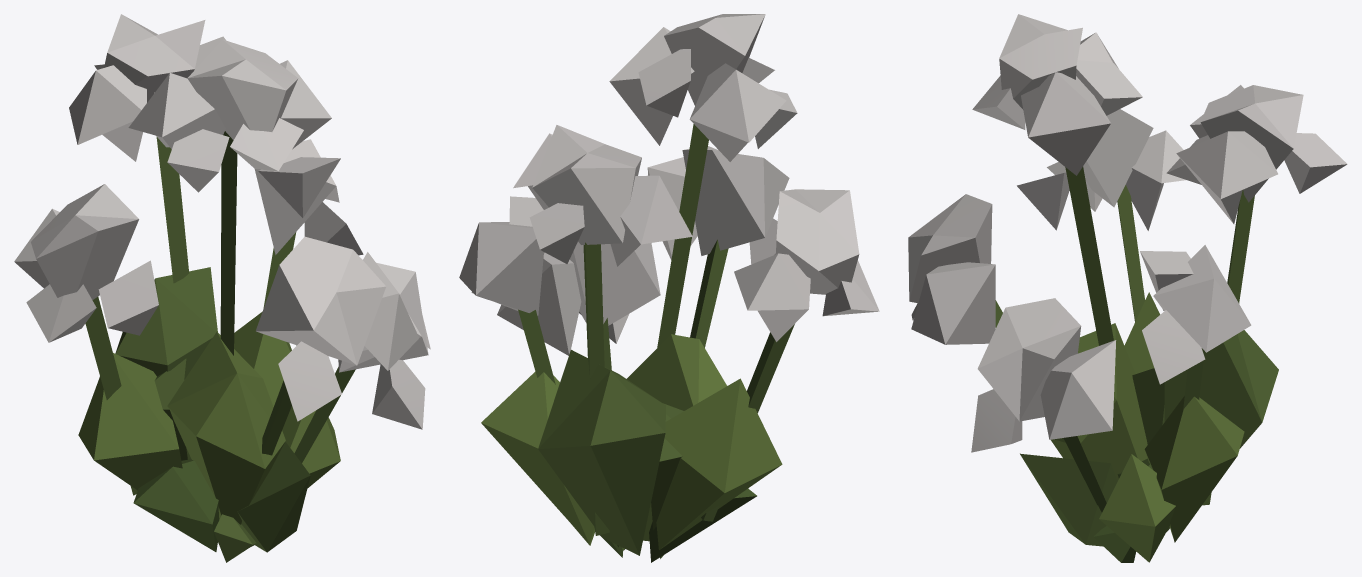
Rendered from SM_Prop_Plant_Flower_02.obj.
The picture shows the model from 3 angles, left to right: view 1: azimuth 30°, elevation 25°; view 2: azimuth 150°, elevation 25°; view 3: azimuth 270°, elevation 25°; orthographic projection. The views are drawn at different scales.
Visible parts, largest first — view 1: SM_Prop_Plant_Flower_02_0; view 2: SM_Prop_Plant_Flower_02_0; view 3: SM_Prop_Plant_Flower_02_0.
Boxes of the visible parts, <box> form: SM_Prop_Plant_Flower_02_0: <box>14,14,430,562</box>; SM_Prop_Plant_Flower_02_0: <box>459,14,879,562</box>; SM_Prop_Plant_Flower_02_0: <box>908,14,1347,562</box>.
Size of the model in its own units: 0.4188 by 0.5805 by 0.452.
Materials: 1 (1 with a texture image).
